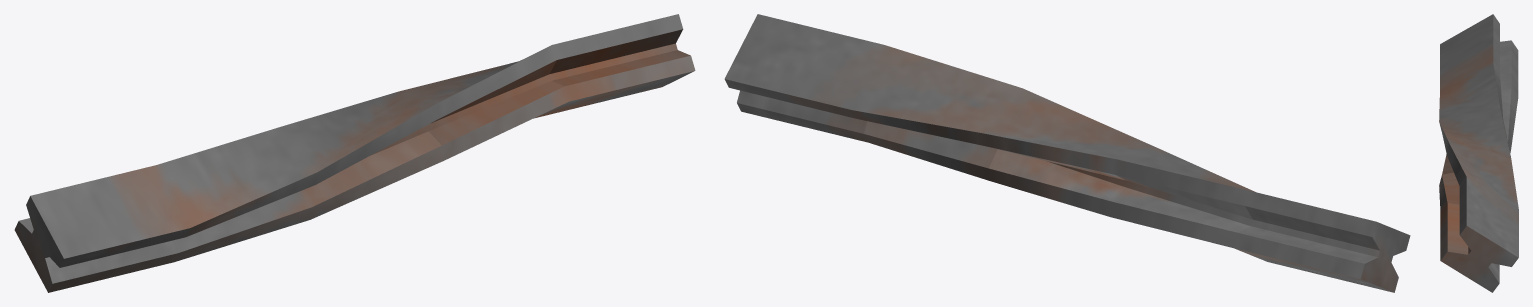
File: hbar.FBX
3 renders of one model, left to right at view 1: azimuth 30°, elevation 25°; view 2: azimuth 150°, elevation 25°; view 3: azimuth 270°, elevation 25°, orthographic. The views are drawn at different scales.
Parts seen in each view (by area): view 1: hbar; view 2: hbar; view 3: hbar.
Part boxes in pixels (x1,y1,x2,y2): hbar: (14,14,695,292); hbar: (724,14,1410,292); hbar: (1439,14,1518,292).
Size of the model in its own units: 243 by 45.5 by 33.6.
